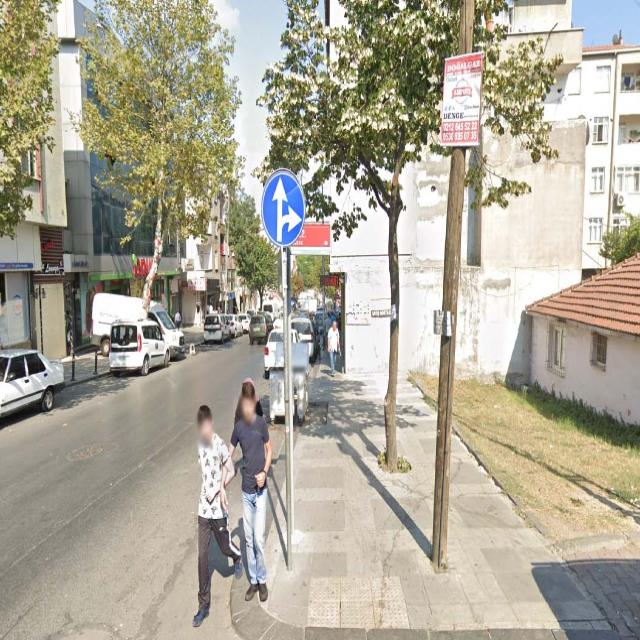ilerisag: (262, 171, 304, 246)
